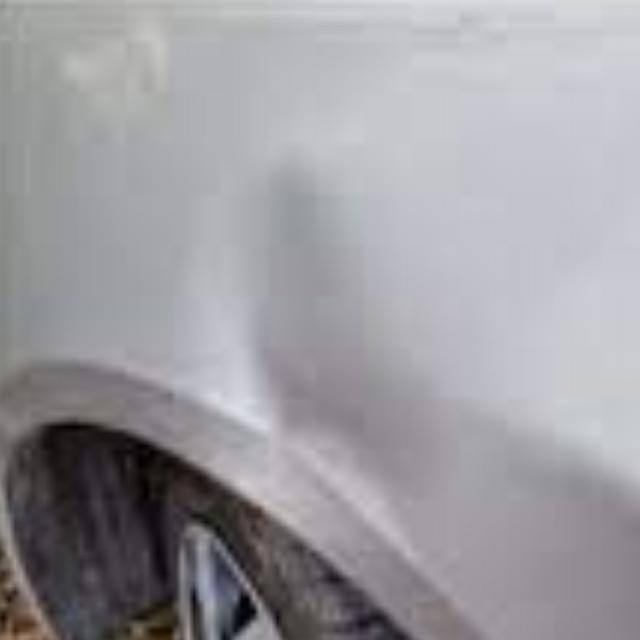dents: (243, 140, 429, 475)
